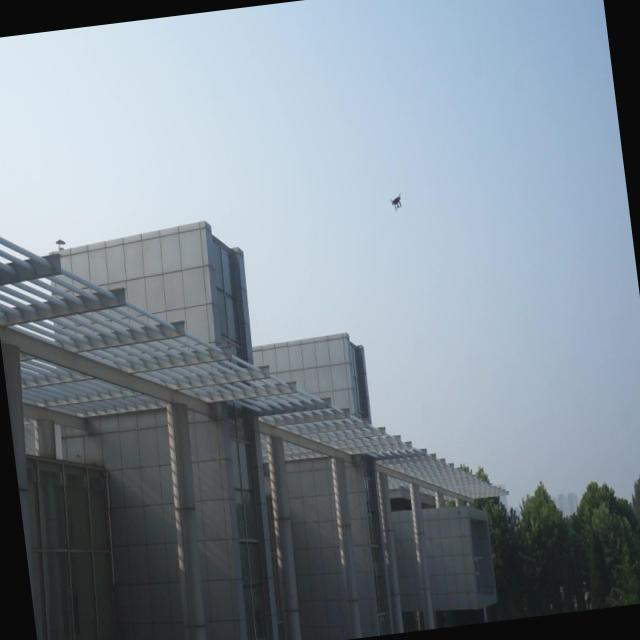drone: (386, 188, 406, 214)
